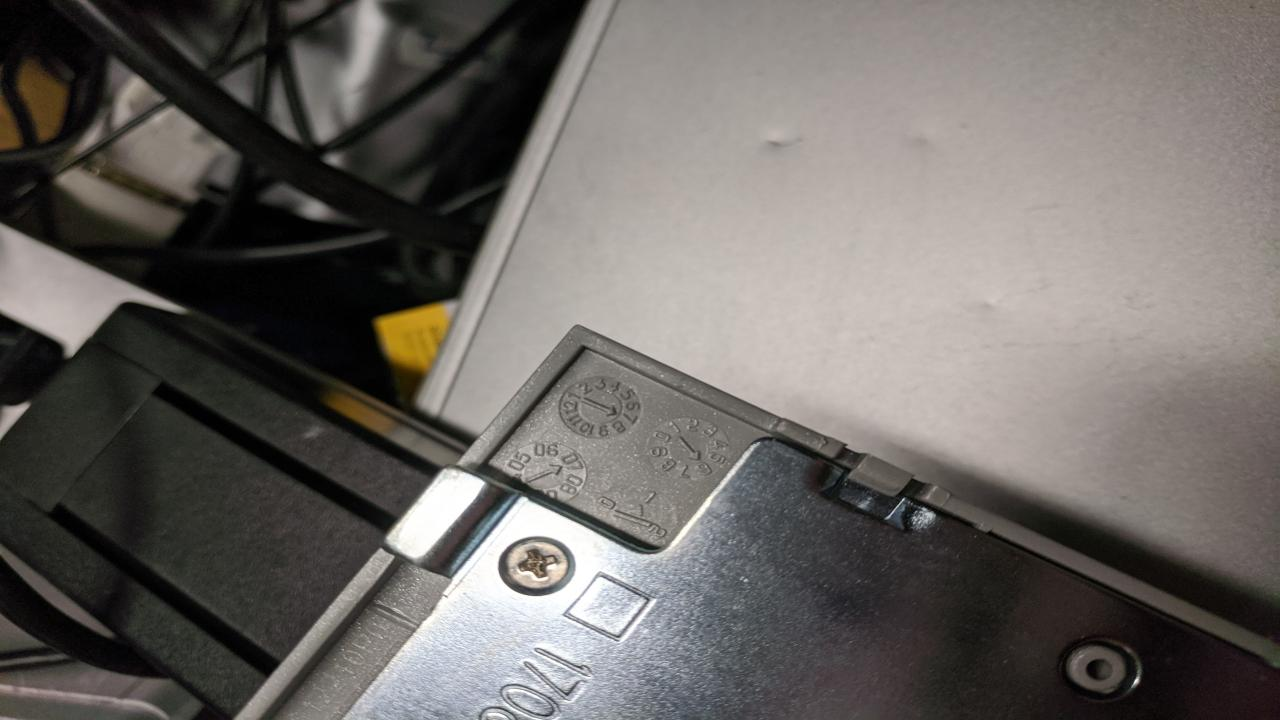CRS: (502, 537, 572, 593)
